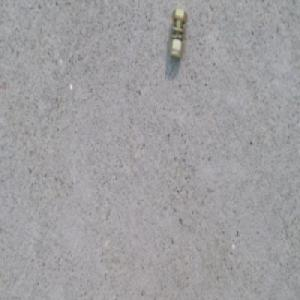BoltNutSet: (165, 8, 189, 58)
